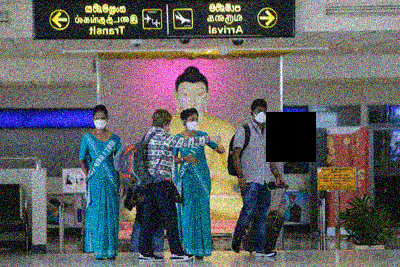with_mask: (252, 108, 267, 124), (92, 115, 106, 130), (186, 117, 197, 131)
without_mask: (159, 119, 172, 134)
